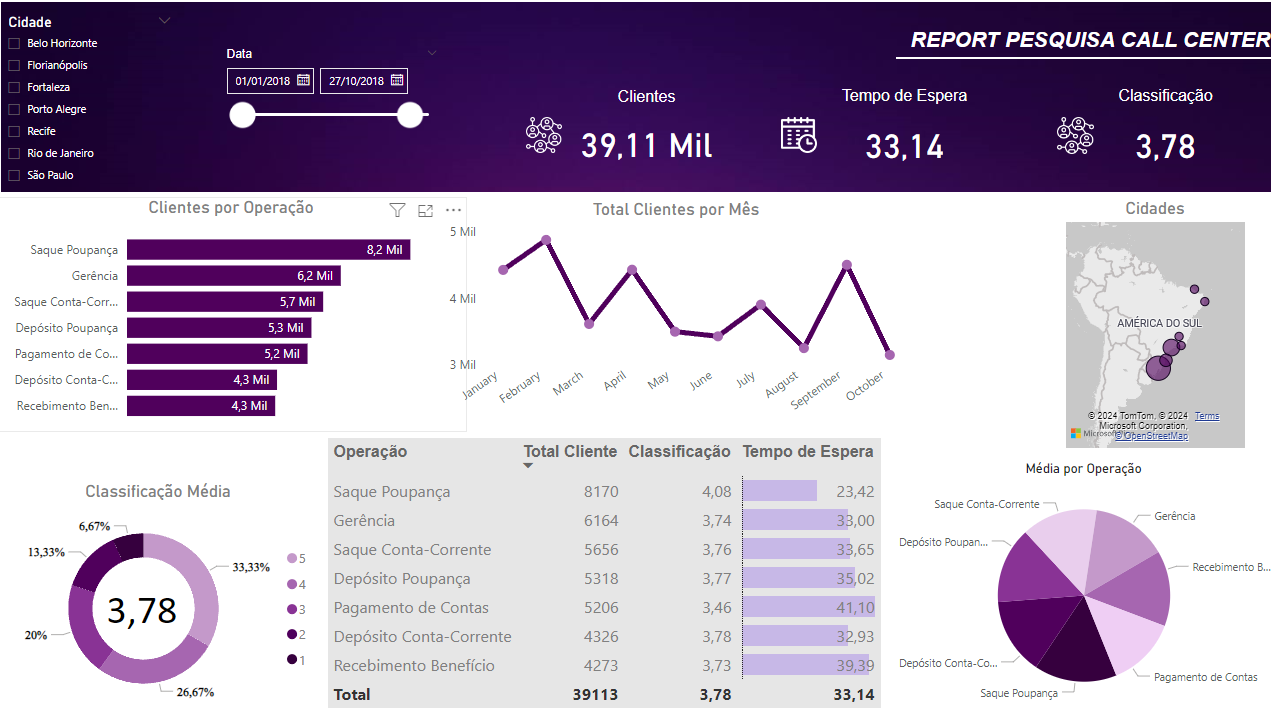

This screenshot's page, from the dashboard's own definition file:
{"tool":"powerbi","page":{"name":"Page 1","canvas":[1280,720],"ordinal":0},"visuals":[{"type":"image","box":[0,0,1280,199.7],"z":0},{"type":"cardVisual","title":"Clientes","fields":{"Data":["CountNonNull(Cliente.IDCliente)"]},"box":[549,90.8,203.6,95.6],"z":1000},{"type":"cardVisual","title":"Tempo de Espera","fields":{"Data":["Avg(Cliente.Tempo de Espera)"]},"box":[804,90.3,209.7,96.6],"z":2000},{"type":"cardVisual","title":"Classificação","fields":{"Data":["Avg(Pesquisa.Classificação)"]},"box":[1065.1,90.3,209.7,96.6],"z":3000},{"type":"image","box":[524.5,114.3,46.9,48.1],"z":4000},{"type":"image","box":[779.5,114.3,46.9,48.1],"z":5000},{"type":"image","box":[1056.2,114.3,46.9,48.1],"z":6000},{"type":"barChart","title":"Clientes por Operação","fields":{"Category":["Cliente.Operação"],"Y":["CountNonNull(Cliente.IDCliente)"]},"box":[0,199.7,471,235.5],"z":7000},{"type":"lineChart","title":"Total Clientes por Mês","fields":{"Y":["CountNonNull(Cliente.IDCliente)"],"Category":["Cliente.Data.Variation.Date Hierarchy.Month"]},"box":[445.2,201.5,470.9,234.4],"z":8000},{"type":"donutChart","title":"Classificação Média ","fields":{"Y":["Avg(Pesquisa.Classificação)"],"Category":["Pesquisa.Classificação"]},"box":[0,484.4,324.6,235.5],"z":9000},{"type":"cardVisual","fields":{"Data":["Avg(Pesquisa.Classificação)"]},"box":[8.2,516.1,276.5,185.3],"z":10000},{"type":"tableEx","fields":{"Values":["Cliente.Operação","CountNonNull(Cliente.IDCliente)","Avg(Pesquisa.Classificação)","Avg(Cliente.Tempo de Espera)"]},"box":[311.3,436.2,605.2,281.6],"z":11000},{"type":"map","title":"Cidades","fields":{"Category":["Cliente.Cidade"],"Size":["CountNonNull(Cliente.IDCliente)"]},"box":[1064.9,201.3,188.9,254.5],"z":12000},{"type":"pieChart","title":"Média por Operação","fields":{"Category":["Cliente.Operação"],"Y":["Avg(Pesquisa.Classificação)"]},"box":[896,463.9,384,254],"z":13000},{"type":"textbox","box":[881.1,25.7,398.9,36],"z":14000},{"type":"shape","box":[899.6,0,375.3,122.3],"z":15000},{"type":"slicer","fields":{"Values":["Cliente.Data"]},"box":[217.7,44.5,235.8,93.8],"z":16000},{"type":"slicer","fields":{"Values":["Cliente.Cidade"]},"box":[0,12.3,188.1,187.1],"z":17000}]}

Visuals, with their boxes in screenshot pixels (x1, y1, x2, y2), scaled from the page's 1280x720 canvas onto the 1273x716 screenshot:
image: 0, 0, 1272, 199
"Clientes" cardVisual: 546, 90, 748, 185
"Tempo de Espera" cardVisual: 800, 90, 1008, 186
"Classificação" cardVisual: 1059, 90, 1268, 186
image: 522, 114, 568, 161
image: 775, 114, 822, 161
image: 1050, 114, 1097, 161
"Clientes por Operação" barChart: 0, 199, 468, 433
"Total Clientes por Mês" lineChart: 443, 200, 911, 433
"Classificação Média " donutChart: 0, 482, 323, 715
cardVisual - Avg(Pesquisa.Classificação): 8, 513, 283, 698
tableEx - Cliente.Operação x CountNonNull(Cliente.IDCliente): 310, 434, 911, 714
"Cidades" map: 1059, 200, 1247, 453
"Média por Operação" pieChart: 891, 461, 1272, 714
textbox: 876, 26, 1272, 61
shape: 895, 0, 1268, 122
slicer - Cliente.Data: 217, 44, 451, 138
slicer - Cliente.Cidade: 0, 12, 187, 198
